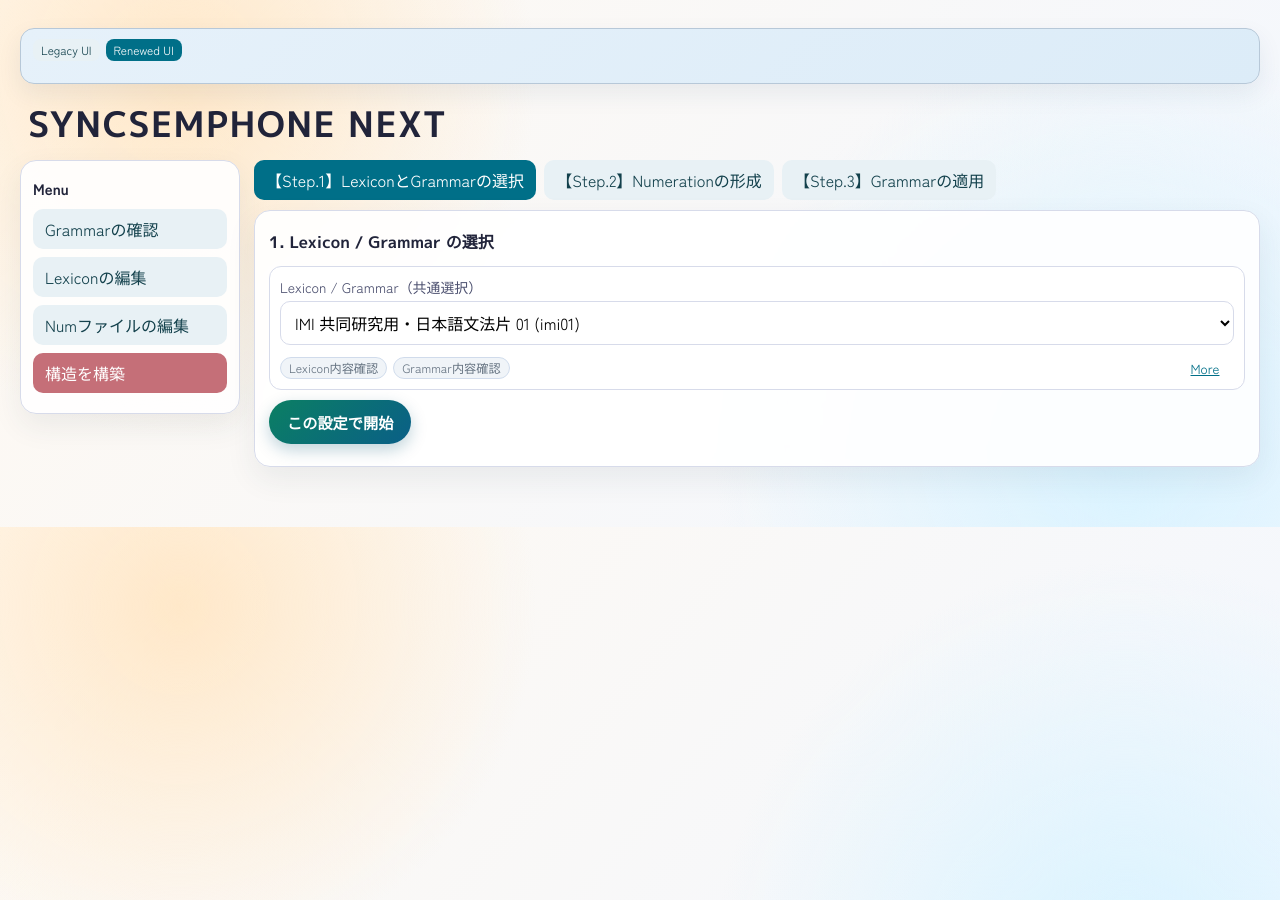
Scenario: App › opens lexicon inspection from Step0 and paginates
The width and height of the screenshot is (1280, 900).
Click the button "Lexicon内容確認".
click(334, 368)  # box left=280, top=357, right=387, bottom=379
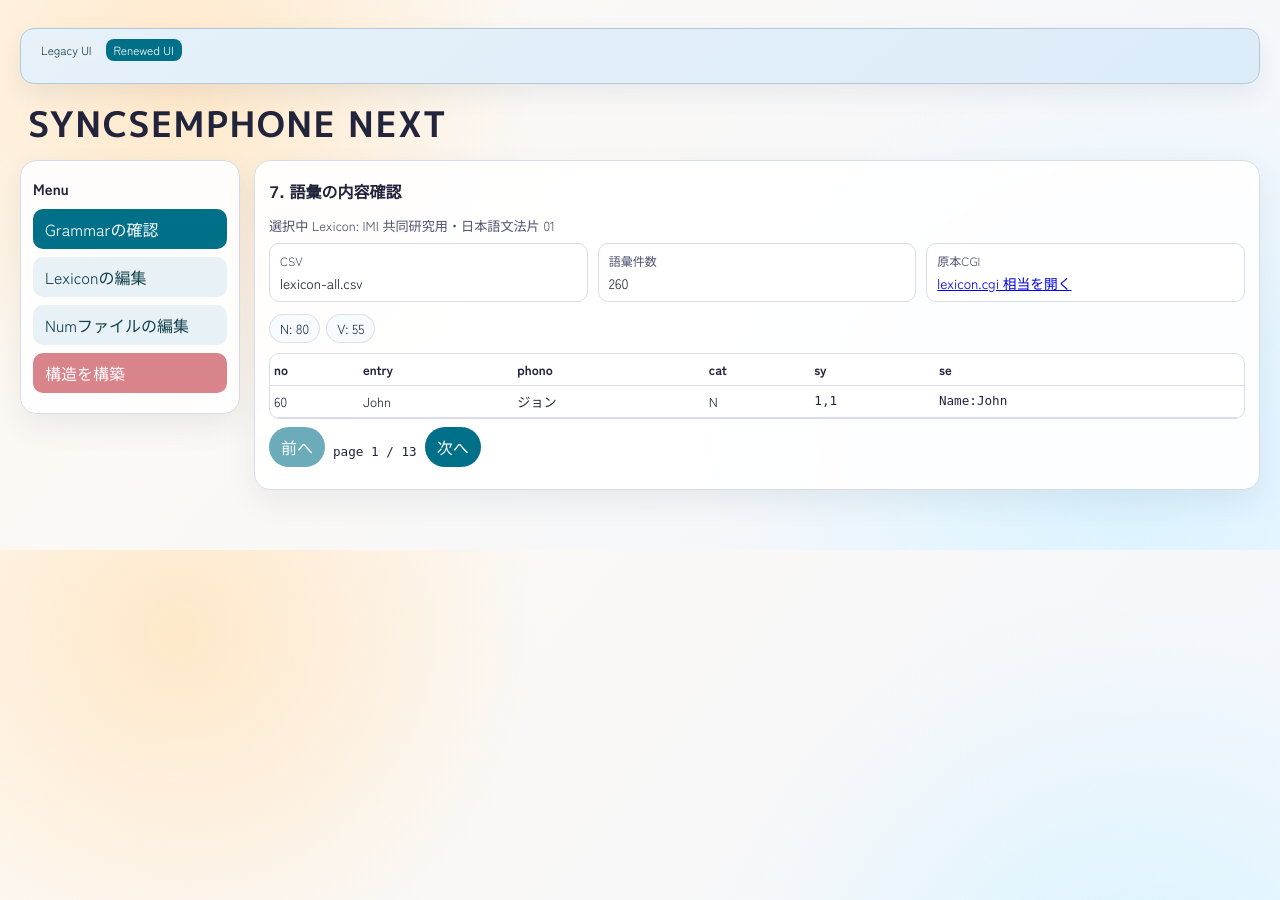
Now the heading "7. 語彙の内容確認" is shown, box left=269, top=181, right=402, bottom=203
Now the table with test id "lexicon-inspect-table" shows "John", box left=363, top=392, right=391, bottom=411
Now the link "lexicon.cgi 相当を開く" is shown, box left=937, top=273, right=1072, bottom=293
